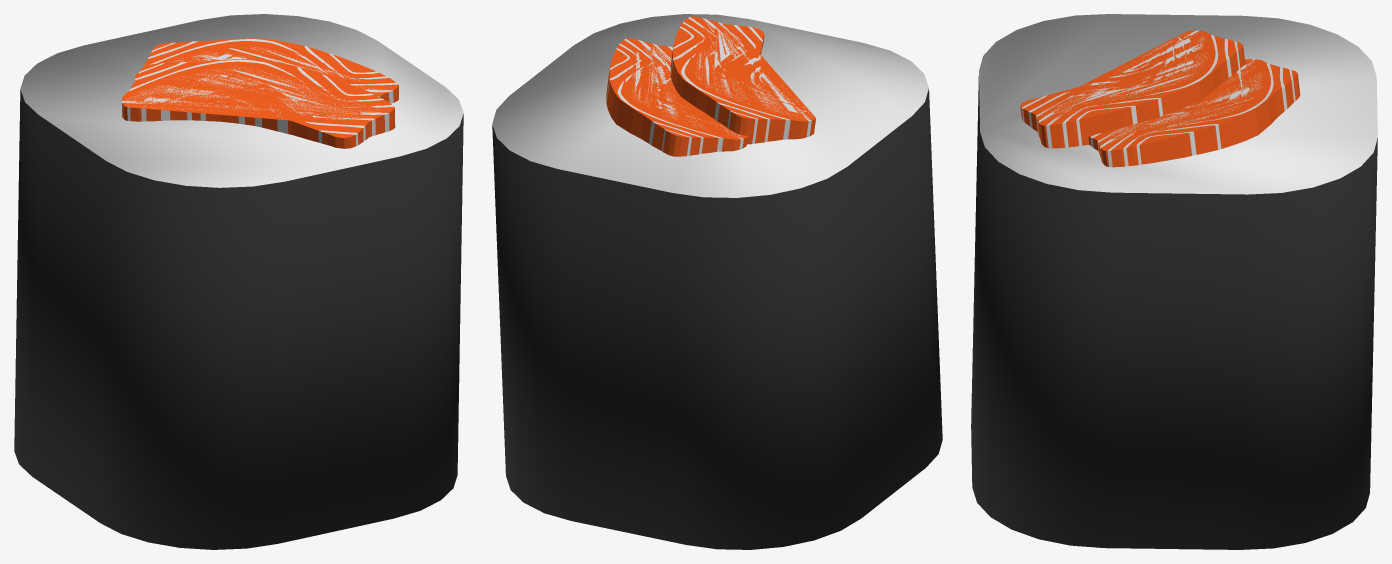
The model's file is Sushi_02.fbx.
3 views of the same model, side by side, from view 1: azimuth 30°, elevation 25°; view 2: azimuth 150°, elevation 25°; view 3: azimuth 270°, elevation 25° (orthographic). The views are drawn at different scales.
Parts seen in each view (by area): view 1: Cube.010; view 2: Cube.010; view 3: Cube.010.
Part boxes in pixels (bbox=[...]): Cube.010: bbox=[14, 14, 463, 549]; Cube.010: bbox=[492, 14, 942, 549]; Cube.010: bbox=[971, 14, 1377, 549].
Bounding box in the file's own units: 174 × 186 × 172.
